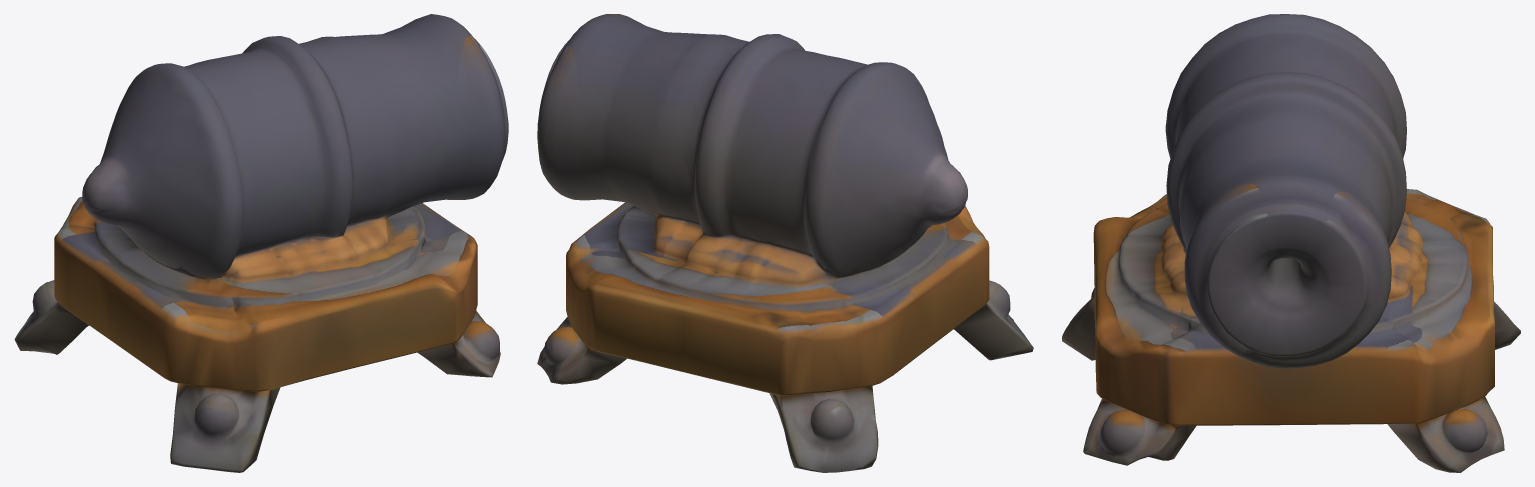
File: cannon.glb
3 views of the same model, side by side, from view 1: azimuth 30°, elevation 25°; view 2: azimuth 150°, elevation 25°; view 3: azimuth 270°, elevation 25° (orthographic). The views are drawn at different scales.
Visible parts, largest first — view 1: tripo_node_375c501a-ef78-4d9a-a632-814216f23e3e; view 2: tripo_node_375c501a-ef78-4d9a-a632-814216f23e3e; view 3: tripo_node_375c501a-ef78-4d9a-a632-814216f23e3e.
Part boxes in pixels (bbox=[...]): tripo_node_375c501a-ef78-4d9a-a632-814216f23e3e: bbox=[14, 14, 508, 472]; tripo_node_375c501a-ef78-4d9a-a632-814216f23e3e: bbox=[537, 14, 1033, 472]; tripo_node_375c501a-ef78-4d9a-a632-814216f23e3e: bbox=[1062, 14, 1520, 472].
Size of the model in its own units: 0.998 by 0.7949 by 0.9355.
Materials: 1 (1 with a texture image).
